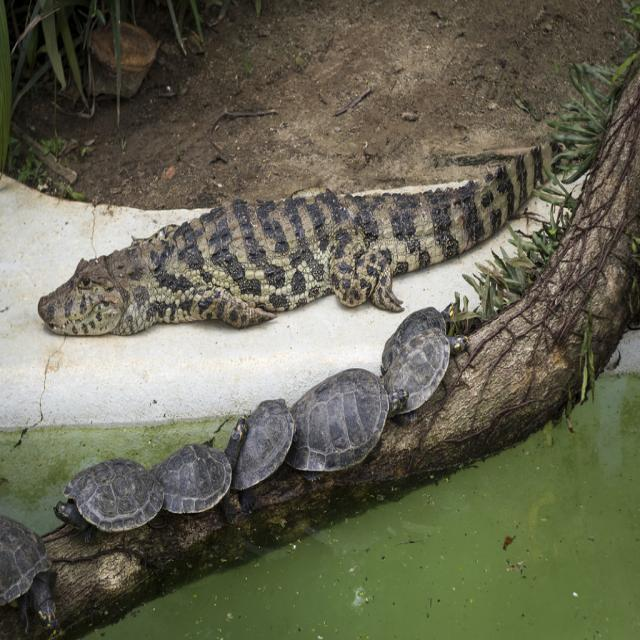crocodile: (17, 113, 596, 395)
